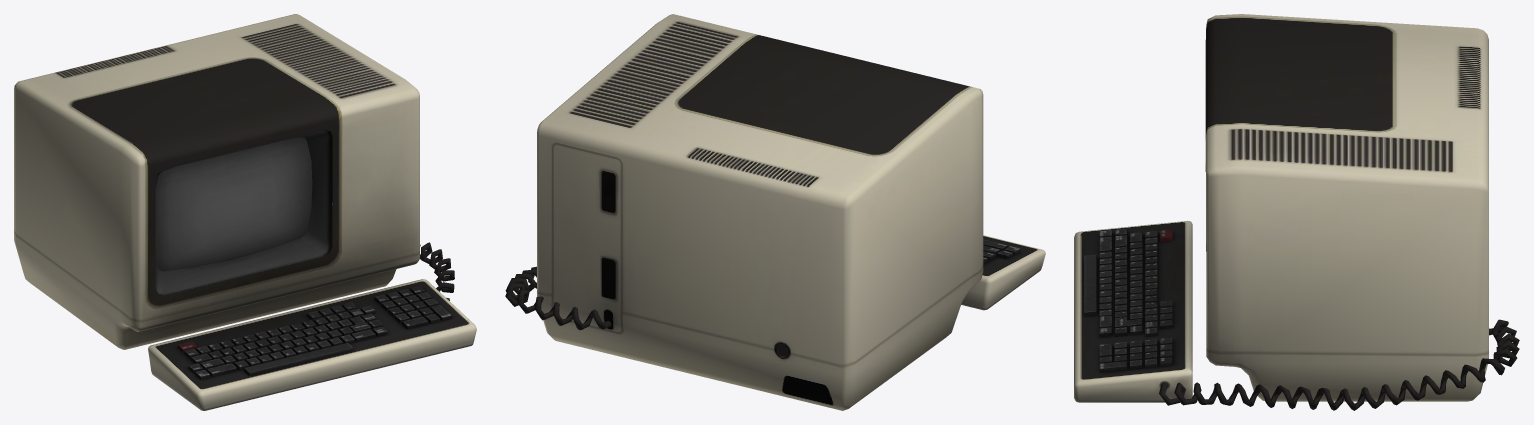
The model's file is monitor.glb.
3 renders of one model, left to right at view 1: azimuth 30°, elevation 25°; view 2: azimuth 150°, elevation 25°; view 3: azimuth 270°, elevation 25°, orthographic. The views are drawn at different scales.
Parts seen in each view (by area): view 1: Object_6, Object_3, Object_2, Object_7, Object_4, Object_5; view 2: Object_6, Object_2, Object_5, Object_7; view 3: Object_6, Object_2, Object_7, Object_5.
Boxes of the visible parts, left/top/right/bottom form: Object_6: left=14, top=14, right=419, bottom=349; Object_3: left=155, top=137, right=312, bottom=271; Object_2: left=148, top=279, right=476, bottom=410; Object_7: left=177, top=286, right=451, bottom=379; Object_4: left=155, top=130, right=332, bottom=295; Object_5: left=420, top=242, right=454, bottom=300; Object_6: left=537, top=14, right=983, bottom=410; Object_2: left=961, top=235, right=1045, bottom=310; Object_5: left=505, top=266, right=611, bottom=330; Object_7: left=983, top=239, right=1020, bottom=263; Object_6: left=1205, top=14, right=1488, bottom=401; Object_2: left=1074, top=220, right=1192, bottom=402; Object_7: left=1084, top=228, right=1172, bottom=372; Object_5: left=1159, top=319, right=1519, bottom=410.
Bounding box in the file's own units: 3.13 × 1.97 × 3.31.
6 materials, 6 textured.
